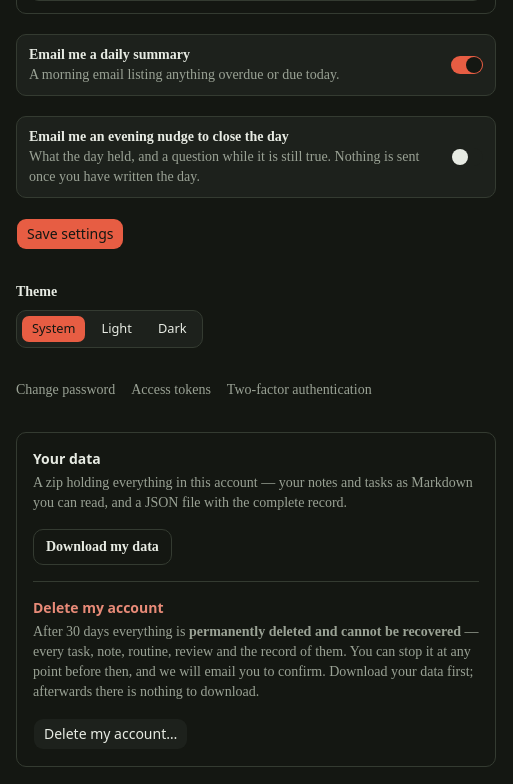
Scenario: PreferencesRoute — leaving › needs both the acknowledgement and the password
(page scrolled)
Click the button "Delete my account…". click: (111, 734)
box: [33, 718, 188, 750]
(page scrolled)
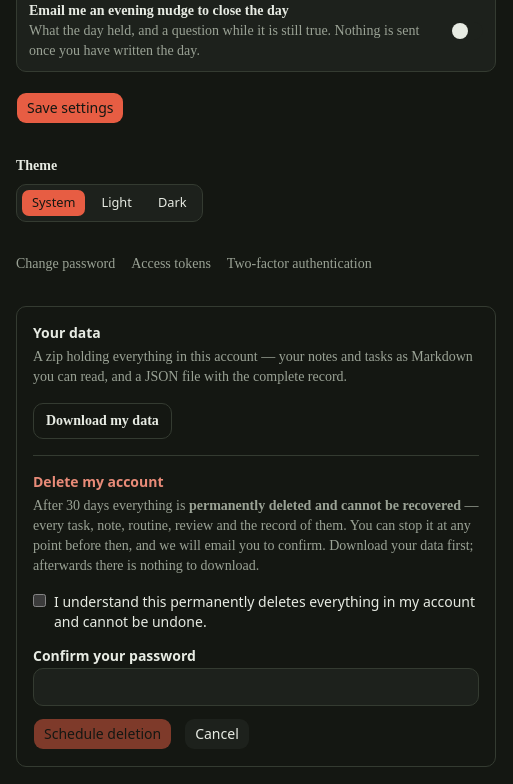
Expected: the button "Schedule deletion" is disabled, [33, 718, 172, 750]
Type "hunter2" into the password field labelled "Confirm your password". click: (256, 687)
box: [33, 668, 479, 706]
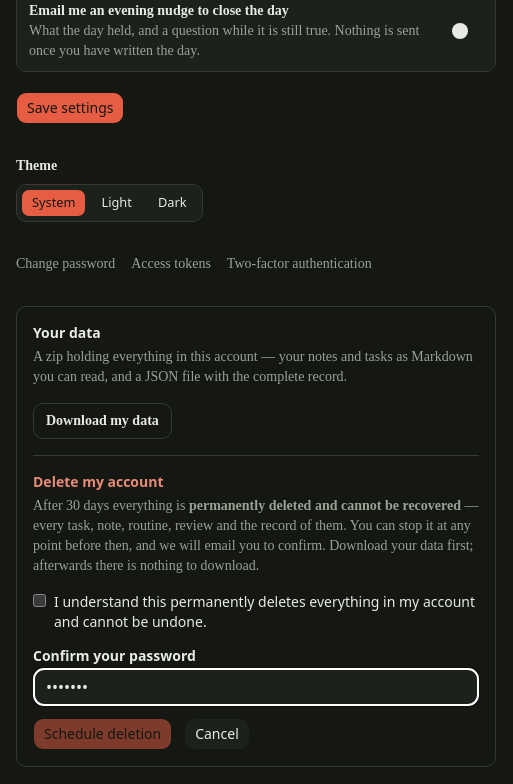
Expected: the button "Schedule deletion" is disabled, [33, 718, 172, 750]
Click the checkbox. click: (40, 600)
box: [33, 594, 46, 607]
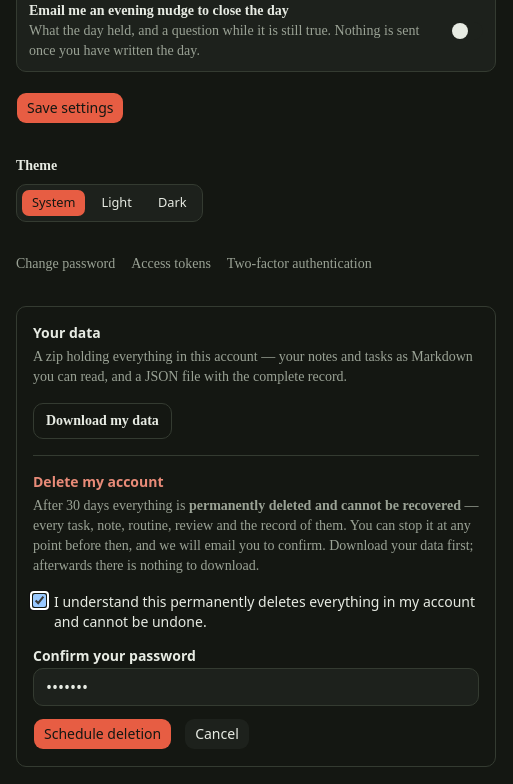
Expected: the button "Schedule deletion" is enabled, [33, 718, 172, 750]
